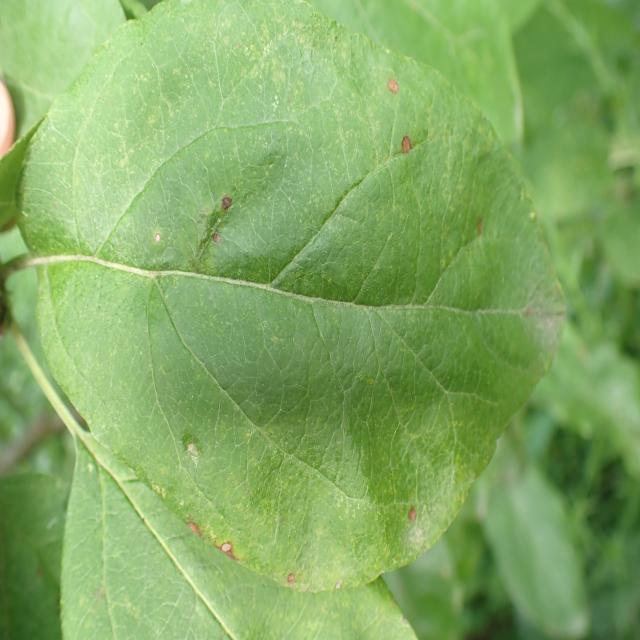Black Rot: (175, 506, 241, 581), (206, 185, 250, 277), (280, 553, 321, 609), (378, 46, 410, 117), (389, 120, 421, 174), (172, 434, 212, 468), (397, 481, 419, 534)
